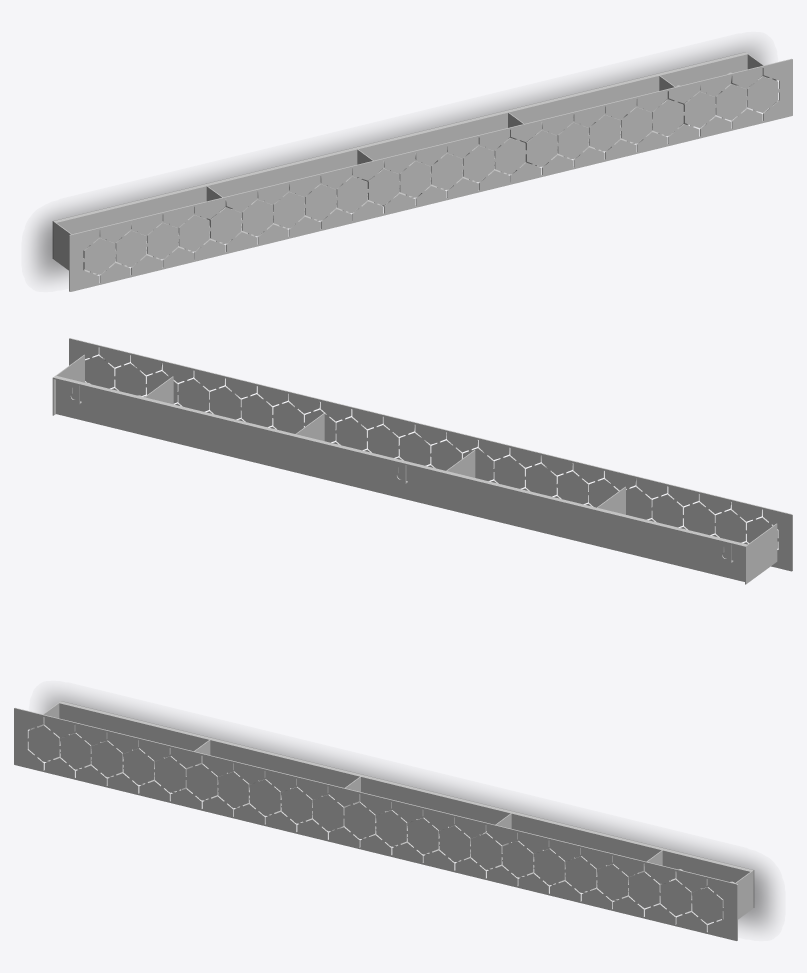
The model's file is bee-patron.473eb79b3a.ar.glb.
3 views of the same model, one above another, from view 1: azimuth 30°, elevation 25°; view 2: azimuth 150°, elevation 25°; view 3: azimuth 330°, elevation 25° (orthographic).
Parts seen in each view (by area): view 1: NAUO1, object 2; view 2: NAUO1; view 3: NAUO1, object 2.
Part boxes in pixels (x1=…): NAUO1: x1=52, y1=52, x2=792, y2=291; object 2: x1=33, y1=45, x2=765, y2=278; NAUO1: x1=52, y1=338, x2=792, y2=584; NAUO1: x1=14, y1=701, x2=754, y2=940; object 2: x1=41, y1=694, x2=773, y2=927.
Bounding box in the file's own units: 1.28 × 0.17 × 0.092.
2 materials, 1 textured.
